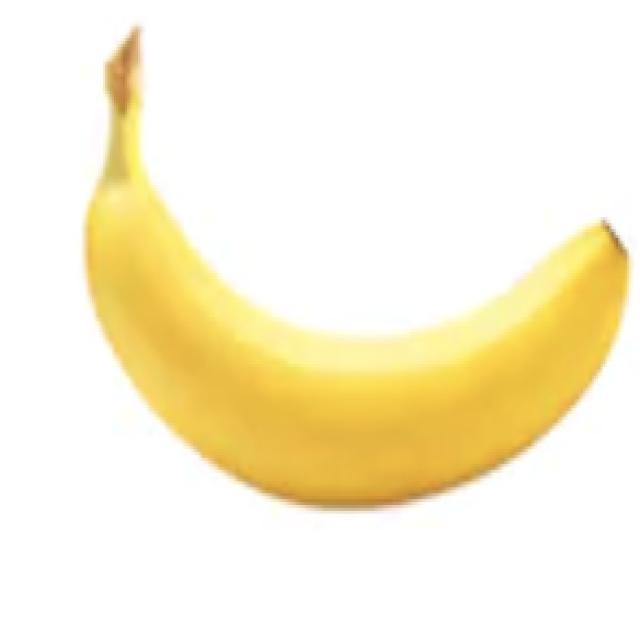Ripe: (59, 32, 640, 537)
